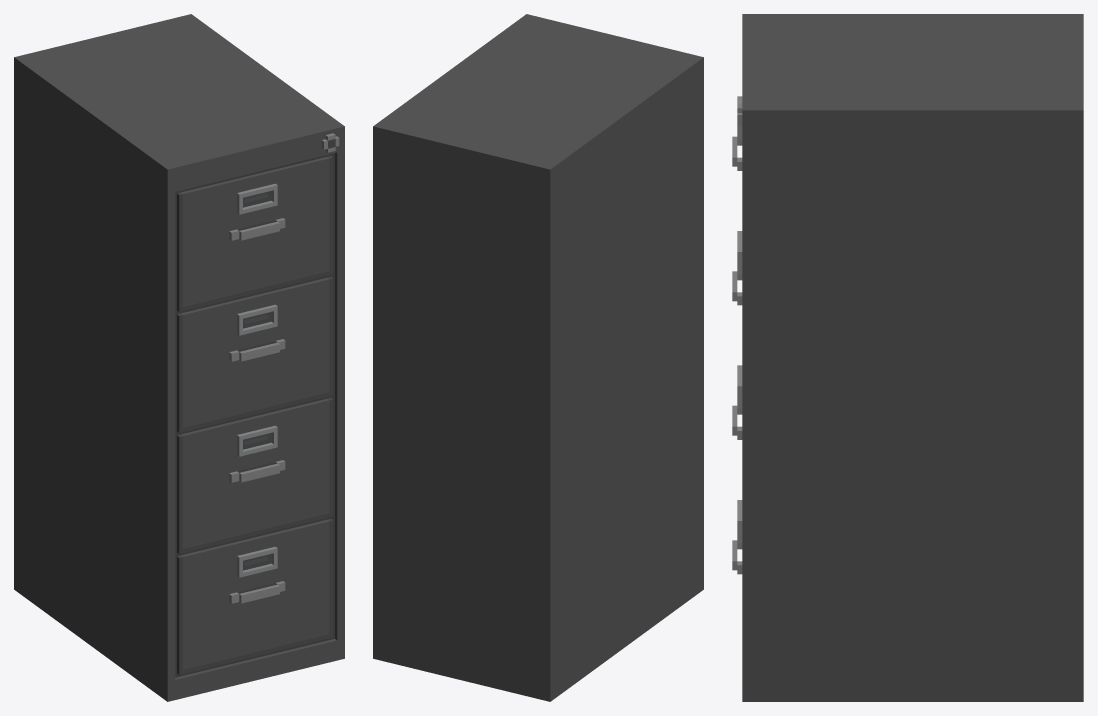
Rendered from File_Cabinet.obj.
The picture shows the model from 3 angles, left to right: view 1: azimuth 30°, elevation 25°; view 2: azimuth 150°, elevation 25°; view 3: azimuth 270°, elevation 25°; orthographic projection. The views are drawn at different scales.
Bounding box in the file's own units: 4.6 × 13.2 × 7.1.
Materials: 1 (1 with a texture image).
